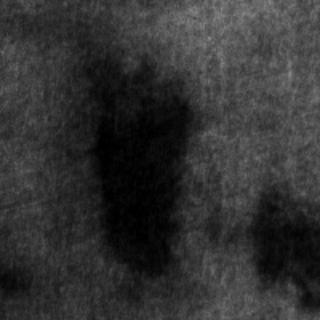patches: (84, 56, 196, 276), (246, 188, 318, 308)
